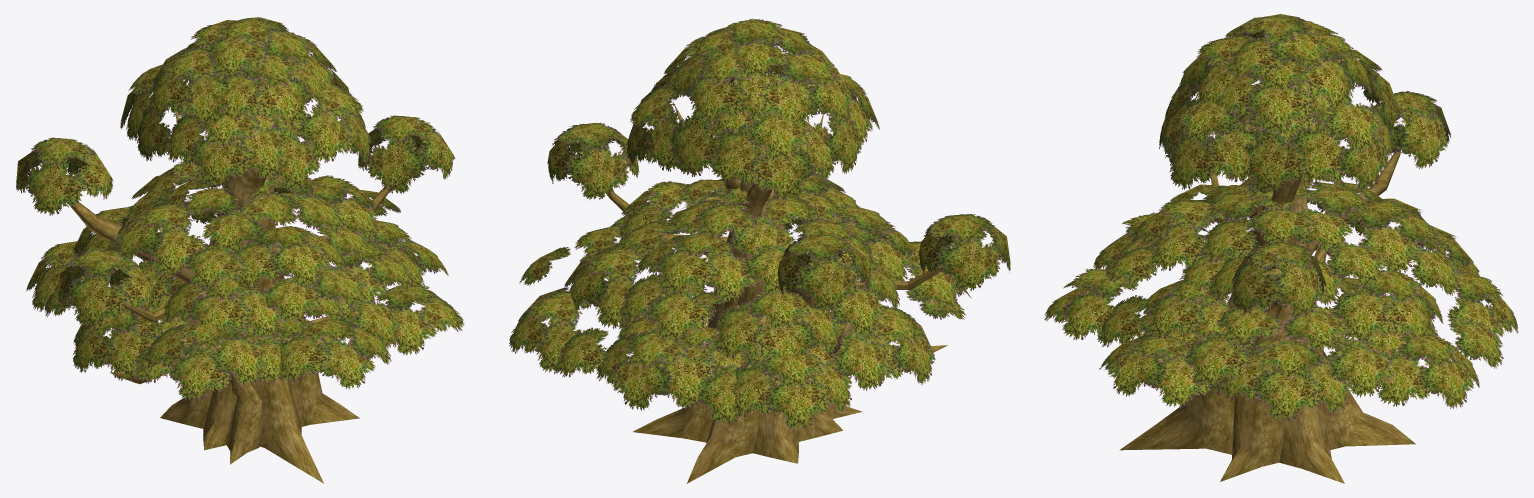
Rendered from n_stree02.glb.
3 views of the same model, side by side, from view 1: azimuth 30°, elevation 25°; view 2: azimuth 150°, elevation 25°; view 3: azimuth 270°, elevation 25° (orthographic). The views are drawn at different scales.
Visible parts, largest first — view 1: n_stree02; view 2: n_stree02; view 3: n_stree02.
Part boxes in pixels (<box>): n_stree02: <box>16,17,464,483</box>; n_stree02: <box>509,18,1010,483</box>; n_stree02: <box>1044,14,1518,483</box>.
Size of the model in its own units: 9.8 by 8.91 by 8.95.
Materials: 2 (2 with a texture image).
